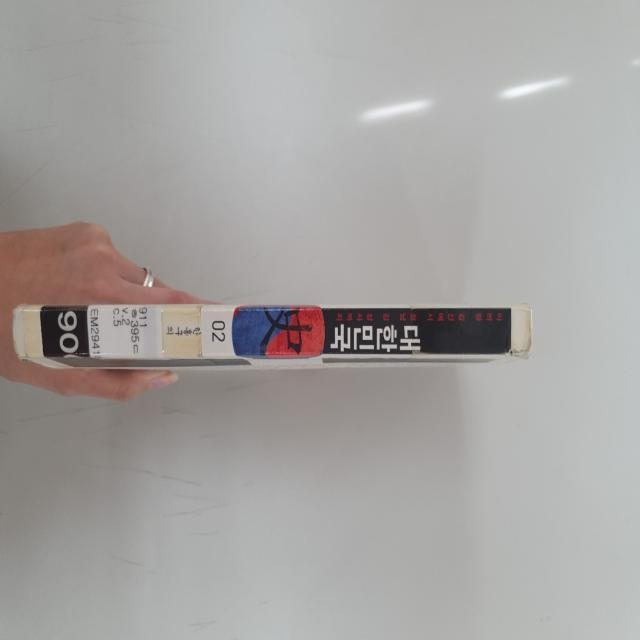Ripped: (503, 342, 535, 364)
Wornout: (8, 297, 29, 365), (524, 298, 535, 342)
